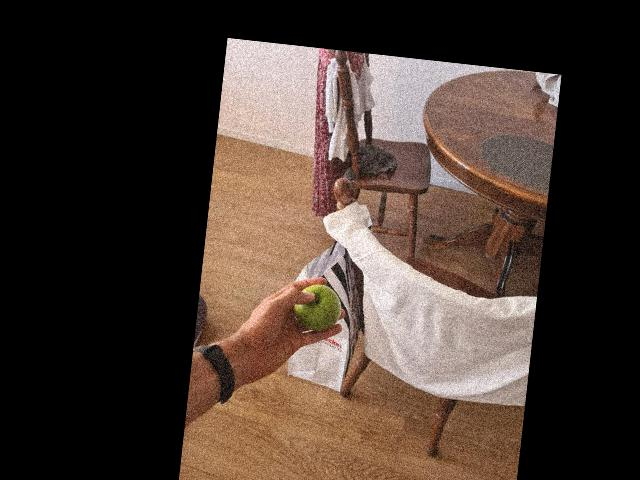apple: (295, 282, 341, 331)
